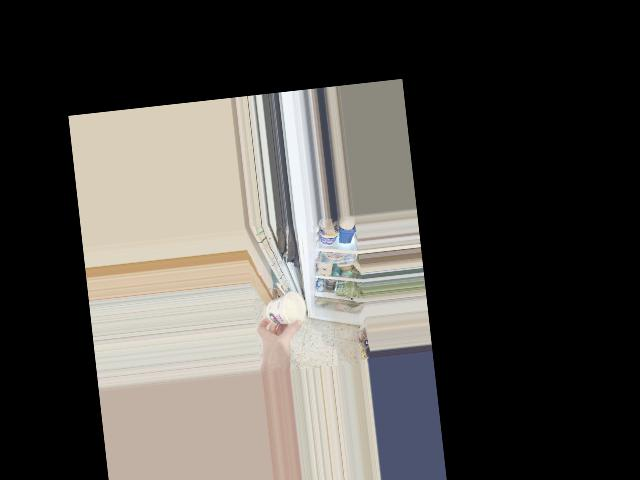cotage: (262, 291, 306, 331)
